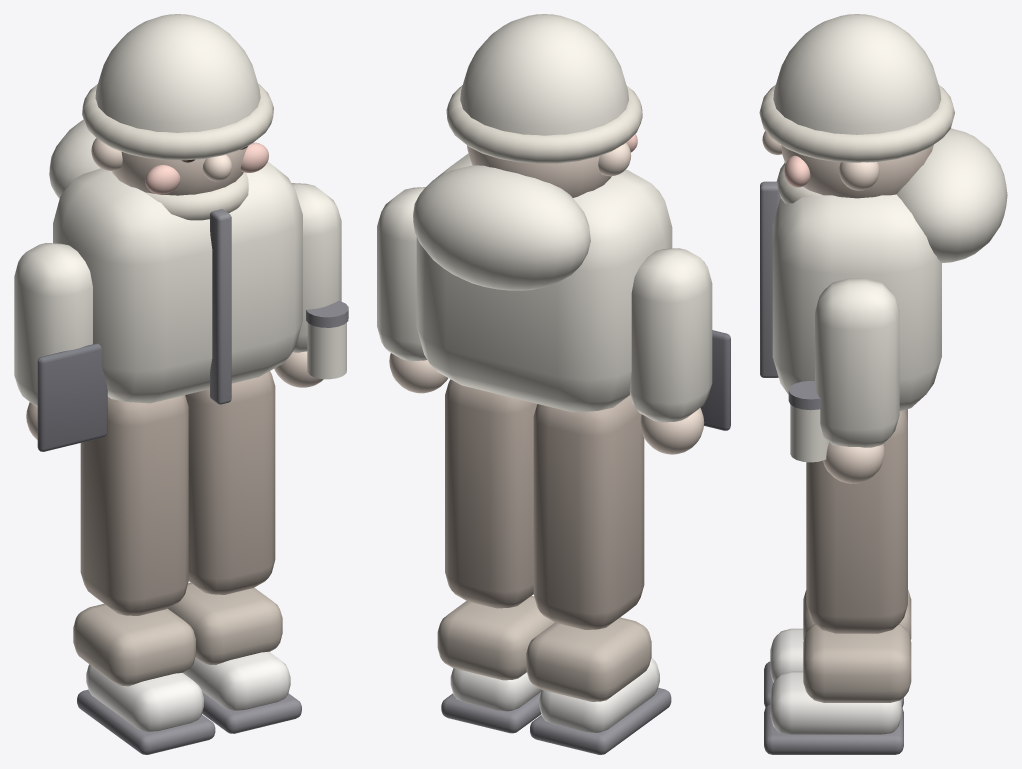
Rendered from character.glb.
3 renders of one model, left to right at view 1: azimuth 30°, elevation 25°; view 2: azimuth 150°, elevation 25°; view 3: azimuth 270°, elevation 25°, orthographic. The views are drawn at different scales.
Parts seen in each view (by area): view 1: Torso, ThighR, ThighL, Beanie, SleeveR, CuffR, Tablet, CuffL, BeanieBrim, SleeveL, FootR, FootL (+13 smaller); view 2: Torso, ThighR, ThighL, Hood, Beanie, SleeveR, CuffR, CuffL, SleeveL, BeanieBrim, FootR, SoleR (+7 smaller); view 3: Torso, ThighL, Beanie, SleeveL, Hood, CuffL, BeanieBrim, FootL, SoleL, Head, Zipper, HandL (+7 smaller).
Boxes of the visible parts, box(x1,y1,x2,y2) form: Torso: box(53, 161, 302, 403); ThighR: box(80, 395, 188, 615); ThighL: box(185, 371, 275, 594); Beanie: box(95, 14, 260, 132); SleeveR: box(14, 243, 92, 407); CuffR: box(73, 604, 195, 686); Tablet: box(37, 343, 107, 451); CuffL: box(168, 582, 282, 664); BeanieBrim: box(82, 83, 273, 160); SleeveL: box(291, 183, 341, 352); FootR: box(86, 664, 203, 731); FootL: box(183, 651, 290, 710); Torso: box(416, 153, 672, 412); ThighR: box(533, 395, 644, 629); ThighL: box(445, 379, 537, 608); Hood: box(413, 165, 590, 290); Beanie: box(460, 14, 628, 135); SleeveR: box(629, 248, 712, 422); CuffR: box(526, 617, 651, 701); CuffL: box(437, 596, 554, 680); SleeveL: box(377, 187, 427, 361); BeanieBrim: box(446, 85, 642, 163); FootR: box(539, 658, 659, 732); SoleR: box(530, 687, 671, 754); Torso: box(772, 162, 941, 410); ThighL: box(806, 409, 907, 633); Beanie: box(773, 14, 941, 134); SleeveL: box(815, 278, 899, 447); Hood: box(896, 128, 1007, 262); CuffL: box(803, 624, 911, 702); BeanieBrim: box(759, 84, 954, 162); FootL: box(770, 671, 901, 734); SoleL: box(764, 704, 903, 754); Head: box(781, 144, 933, 198); Zipper: box(760, 181, 780, 377); HandL: box(823, 442, 884, 483).
Bounding box in the file's own units: 0.875 × 1.81 × 0.5858.
